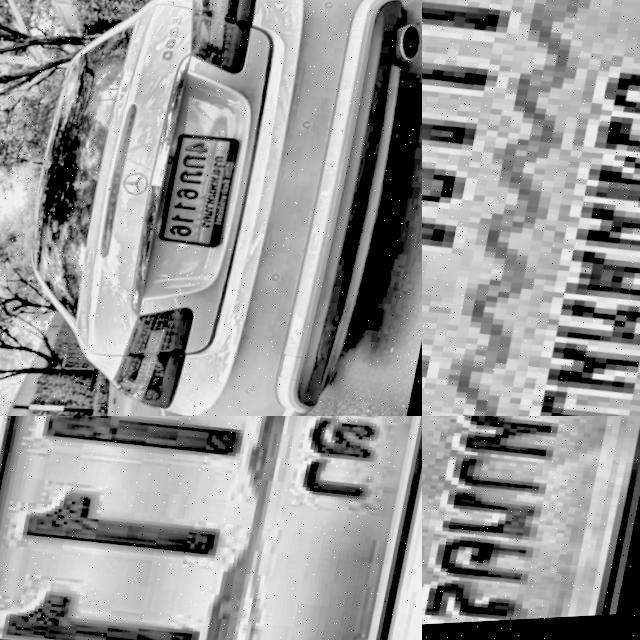license-plate: (0, 416, 422, 640), (422, 0, 640, 416), (422, 416, 640, 640), (158, 132, 247, 256)
